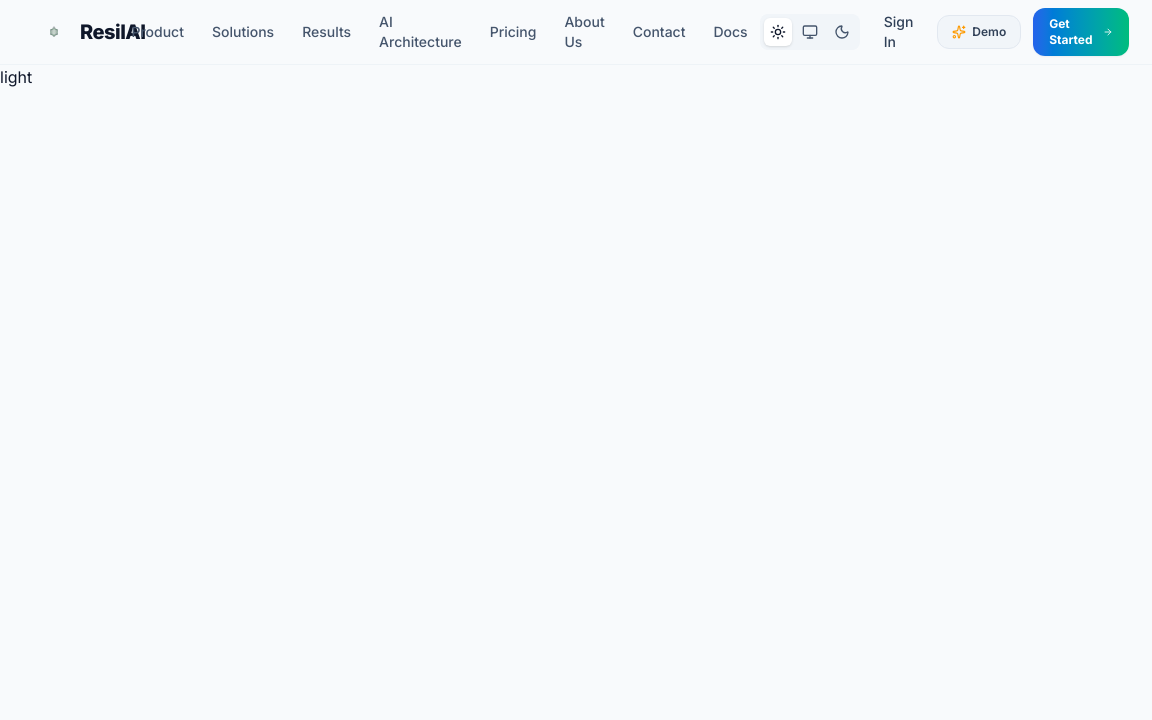
Test case: Adversarial Challenger Suite — Milestone 2 UI & Isolation Stress › Challenge 1: PublicNavbar SafeThemeToggle Isolation › seamlessly adopts outer ThemeProvider when one is provided
The image size is (1152, 720).
expect the text with test id "current-outer-theme" reads "light": met, box [0, 67, 32, 87]
Click dark theme in navbar
Click the button named "Switch to Dark theme": (842, 32) [828, 18, 856, 46]
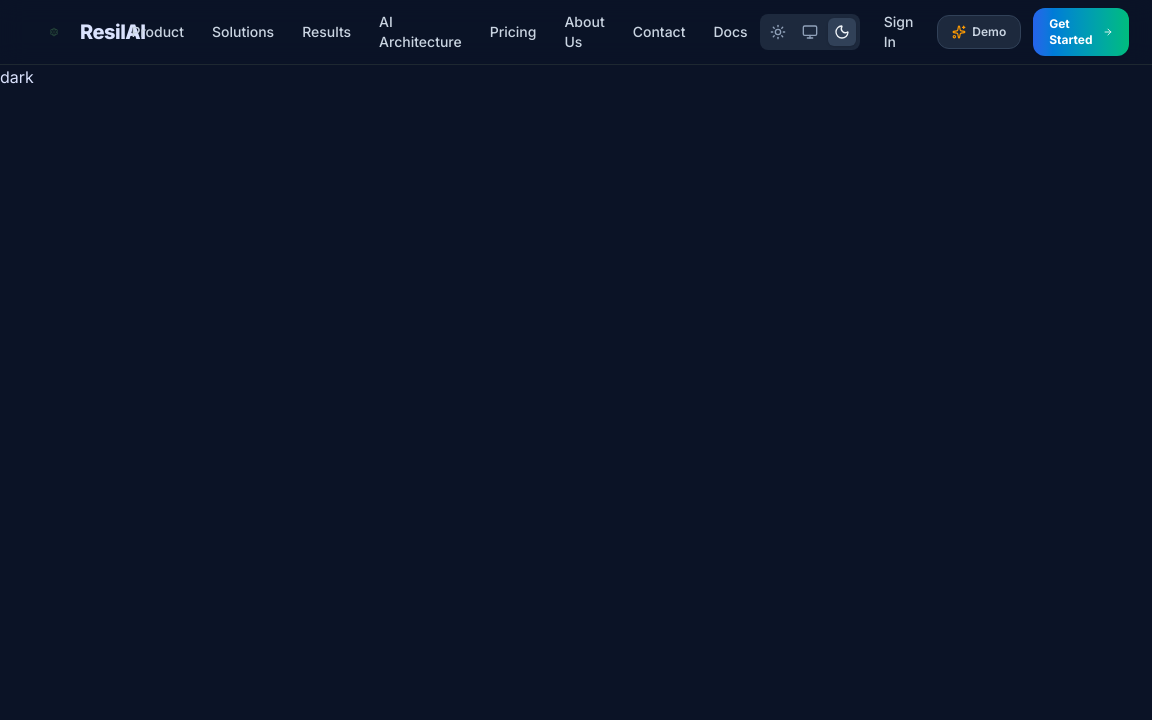
expect the text with test id "current-outer-theme" reads "dark": met, box [0, 67, 34, 87]
